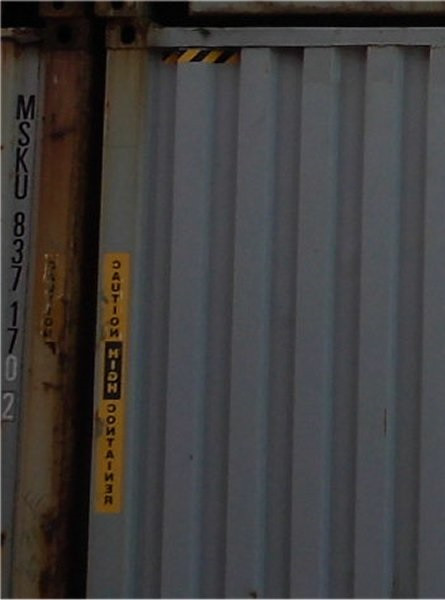container_no_door: (97, 15, 442, 598)
